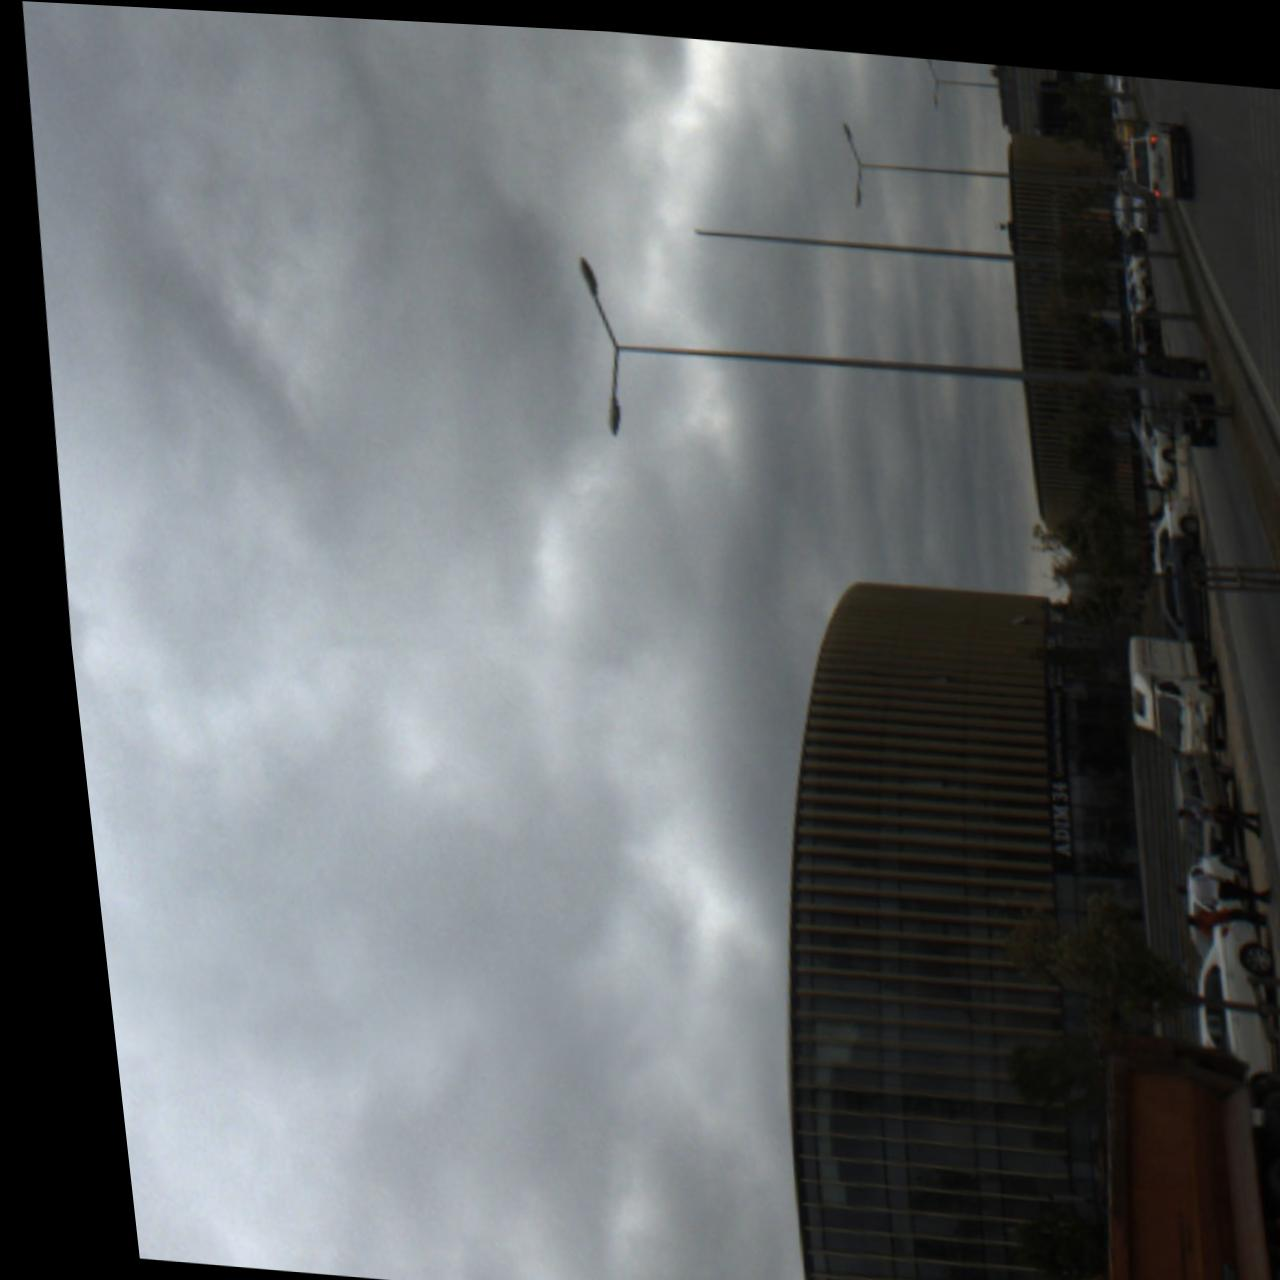SignStore: (1030, 675, 1053, 860)
